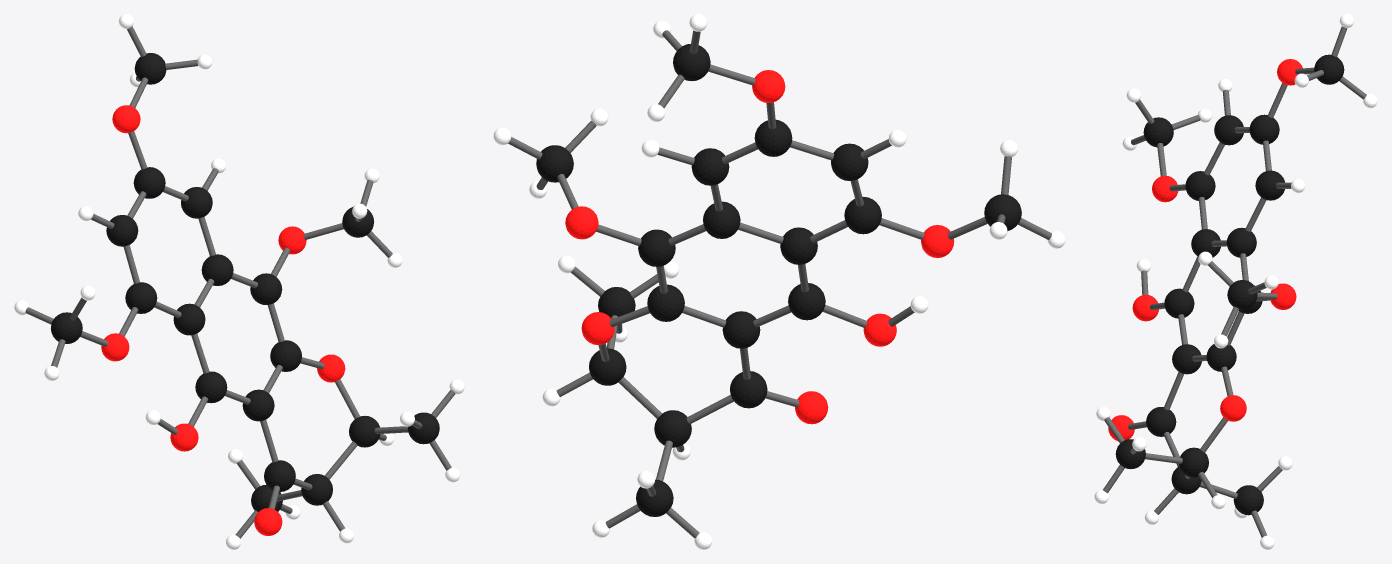
The model's file is molecule.glb.
The picture shows the model from 3 angles, left to right: view 1: azimuth 30°, elevation 25°; view 2: azimuth 150°, elevation 25°; view 3: azimuth 270°, elevation 25°; orthographic projection. The views are drawn at different scales.
Parts seen in each view (by area): view 1: geometry_8, geometry_4, geometry_2, geometry_11, geometry_15, geometry_7, geometry_16, geometry_10, geometry_12, geometry_3, geometry_22, geometry_18 (+11 smaller); view 2: geometry_10, geometry_7, geometry_12, geometry_16, geometry_3, geometry_20, geometry_11, geometry_8, geometry_4, geometry_22, geometry_14, geometry_2 (+12 smaller); view 3: geometry_8, geometry_15, geometry_2, geometry_21, geometry_22, geometry_4, geometry_18, geometry_6, geometry_16, geometry_10, geometry_0, geometry_14 (+11 smaller).
Boxes of the visible parts, x1,y1,x2,y2 form: geometry_8: [195, 371, 227, 403]; geometry_4: [125, 282, 157, 313]; geometry_2: [133, 167, 165, 198]; geometry_11: [270, 340, 301, 371]; geometry_15: [201, 254, 233, 285]; geometry_7: [173, 303, 205, 335]; geometry_16: [181, 187, 212, 218]; geometry_10: [242, 389, 274, 421]; geometry_12: [250, 273, 282, 304]; geometry_3: [106, 215, 138, 246]; geometry_22: [264, 460, 295, 491]; geometry_18: [349, 416, 380, 447]; geometry_10: [722, 311, 760, 348]; geometry_7: [780, 227, 817, 264]; geometry_12: [638, 229, 675, 266]; geometry_16: [691, 148, 729, 185]; geometry_3: [831, 143, 868, 180]; geometry_20: [654, 410, 691, 447]; geometry_11: [647, 284, 684, 321]; geometry_8: [788, 283, 825, 320]; geometry_4: [844, 197, 881, 234]; geometry_22: [730, 371, 767, 408]; geometry_14: [536, 145, 573, 182]; geometry_2: [754, 119, 792, 156]; geometry_8: [1164, 288, 1194, 318]; geometry_15: [1226, 227, 1256, 257]; geometry_2: [1249, 114, 1279, 144]; geometry_21: [1233, 485, 1263, 515]; geometry_22: [1146, 407, 1176, 436]; geometry_4: [1185, 171, 1215, 200]; geometry_18: [1179, 447, 1208, 477]; geometry_6: [1143, 117, 1173, 147]; geometry_16: [1255, 170, 1284, 200]; geometry_10: [1172, 344, 1201, 374]; geometry_0: [1314, 54, 1344, 84]; geometry_14: [1227, 280, 1257, 309].
Size of the model in its own units: 0.2248 by 0.257 by 0.1375.
